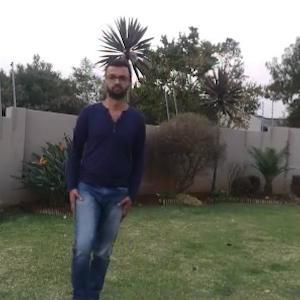follow: (61, 40, 146, 299)
